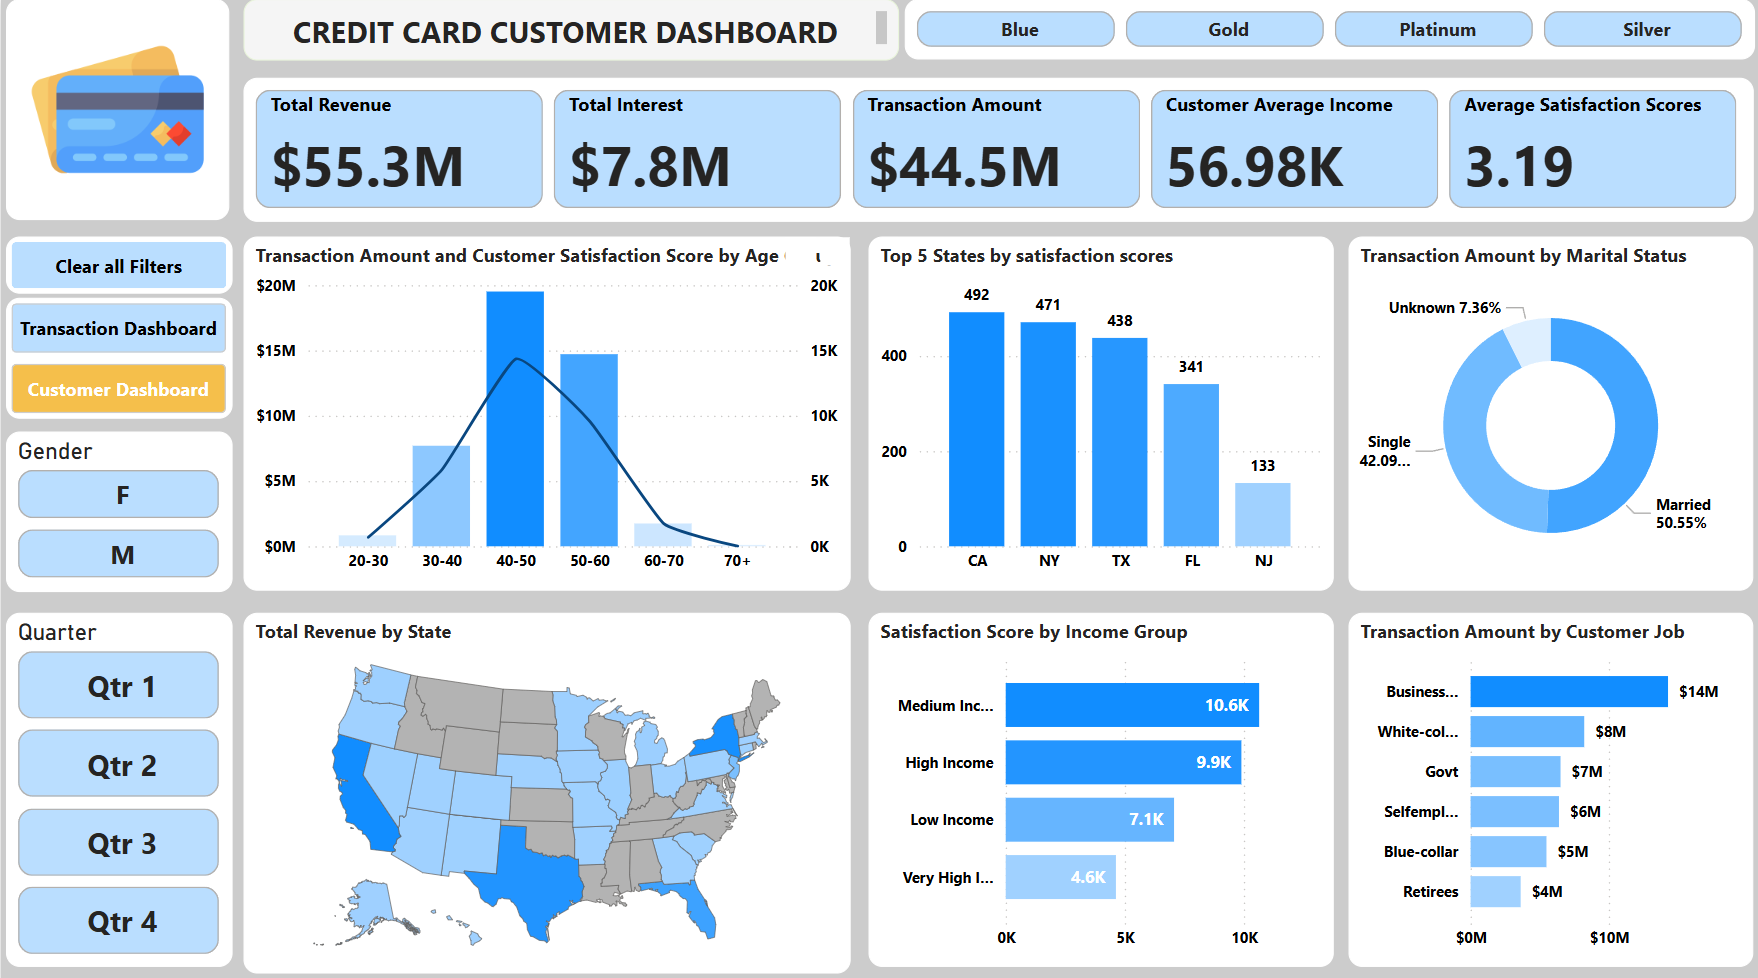

Layout of this report page (visuals, bound fields, positions):
{"tool":"powerbi","page":{"name":"Customer Dashboard","canvas":[1280,720],"ordinal":1},"visuals":[{"type":"textbox","box":[176.6,0,476.4,44.8],"z":0},{"type":"lineStackedColumnComboChart","title":"Transaction Amount and Customer Satisfaction Score by Age Group","fields":{"Category":["customers.Age Group"],"Y":["Measures (2).Transaction Amount"],"Y2":["Sum(customers.Cust_Satisfaction_Score)"]},"box":[176.6,172.9,441.6,257.5],"z":1000},{"type":"clusteredColumnChart","title":"Top 5 States by satisfaction scores","fields":{"Category":["customers.state_cd"],"Y":["Measures (2).satisfaction scores Count"]},"box":[630.7,172.9,338.4,257.5],"z":2000},{"type":"image","box":[3.7,0,162,161],"z":3000},{"type":"cardVisual","fields":{"Data":["Measures (2).Total Revenue","Measures (2).Total Intrest","Measures (2).Transaction Amount","Measures (2).Average Income","Measures (2).Average Satisfaction Scores"]},"box":[176.6,57.2,1098,104.5],"z":4000},{"type":"donutChart","title":"Transaction Amount by Marital Status","fields":{"Category":["customers.Marital_Status"],"Y":["Measures (2).Transaction Amount"]},"box":[980.4,173,294.5,257.7],"z":5000},{"type":"shapeMap","fields":{"Value":["Measures (2).Total Revenue"],"Category":["customers.state_cd"]},"box":[176.6,446.6,441.6,262.5],"z":6000},{"type":"clusteredBarChart","title":"Transaction Amount by Customer Job","fields":{"Category":["customers.Customer_Job"],"Y":["Measures (2).Transaction Amount"]},"box":[980.4,446.6,294.5,257.7],"z":7000},{"type":"clusteredBarChart","title":"Satisfaction Score by Income Group","fields":{"Category":["customers.Income_Group"],"Y":["Sum(customers.Cust_Satisfaction_Score)"]},"box":[630.7,446.6,338.4,257.5],"z":8000},{"type":"advancedSlicerVisual","fields":{"Values":["customers.Gender"]},"box":[3.7,314.1,164.4,116.6],"z":9000},{"type":"advancedSlicerVisual","title":"Quarter","fields":{"Values":["Dates.Qtr"]},"box":[3.7,446.6,164.4,257.7],"z":10000},{"type":"advancedSlicerVisual","title":"Quarter","fields":{"Values":["credit_card.Card_Category"]},"box":[657.7,0,618.4,44.2],"z":11000},{"type":"pageNavigator","box":[3.7,217.2,164.4,88.3],"z":12000},{"type":"actionButton","box":[3.7,173,164.4,41.7],"z":13000}]}

Visuals, with their boxes in screenshot pixels (x1, y1, x2, y2), scaled from the page's 1280x720 canvas onto the 1758x978 screenshot:
textbox: 243, 0, 897, 61
"Transaction Amount and Customer Satisfaction Score by Age Group" lineStackedColumnComboChart: 243, 235, 849, 585
"Top 5 States by satisfaction scores" clusteredColumnChart: 866, 235, 1331, 585
image: 5, 0, 228, 219
cardVisual - Measures (2).Total Revenue x Measures (2).Total Intrest: 243, 78, 1751, 220
"Transaction Amount by Marital Status" donutChart: 1347, 235, 1751, 585
shapeMap - Measures (2).Total Revenue x customers.state_cd: 243, 607, 849, 963
"Transaction Amount by Customer Job" clusteredBarChart: 1347, 607, 1751, 957
"Satisfaction Score by Income Group" clusteredBarChart: 866, 607, 1331, 956
advancedSlicerVisual - customers.Gender: 5, 427, 231, 585
"Quarter" advancedSlicerVisual: 5, 607, 231, 957
"Quarter" advancedSlicerVisual: 903, 0, 1753, 60
pageNavigator: 5, 295, 231, 415
actionButton: 5, 235, 231, 292
